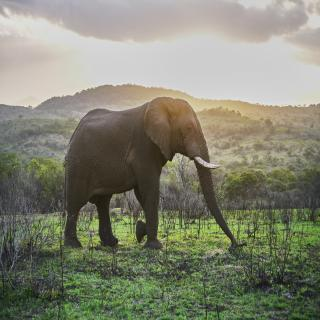Elephant: (57, 97, 245, 258)
